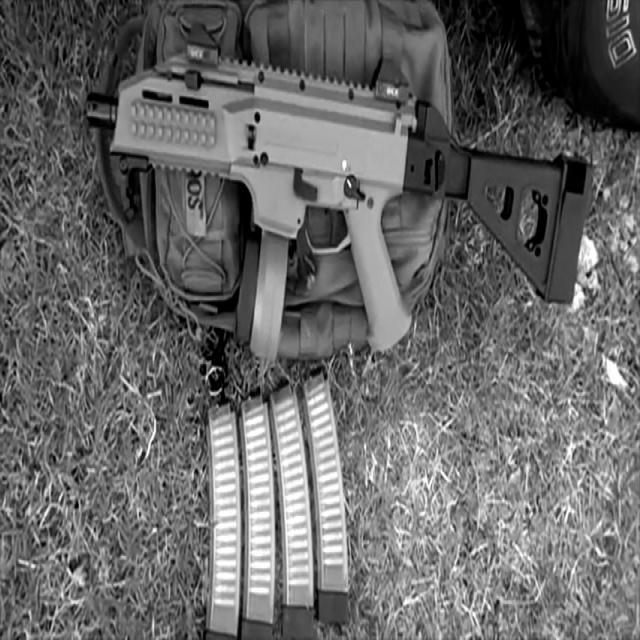Sub-machine-gun: (55, 0, 618, 429)
